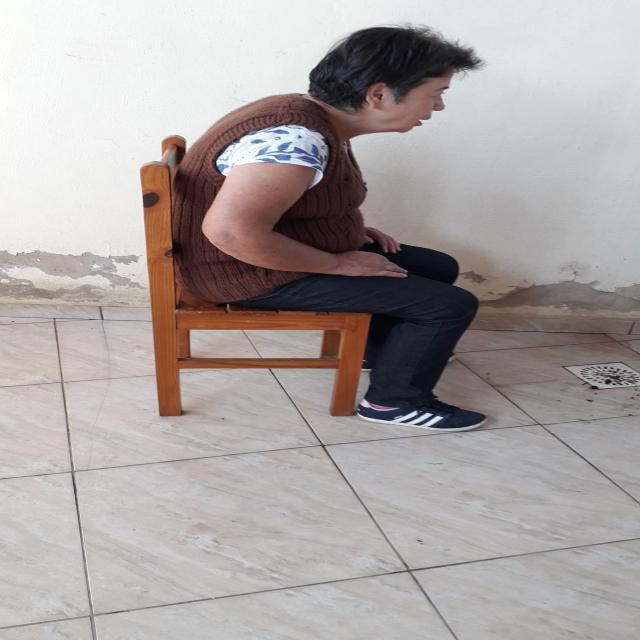bad-pose: (0, 0, 640, 640)
